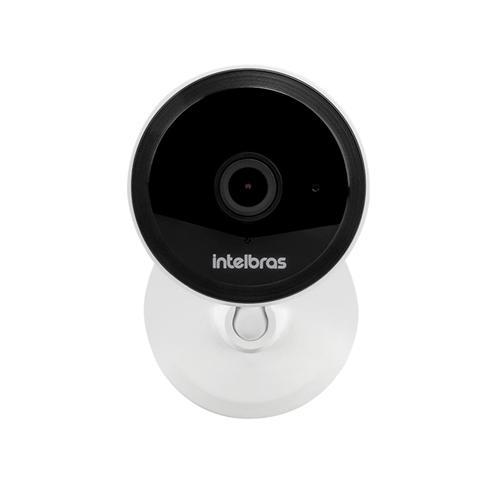camera: (78, 55, 395, 426)
